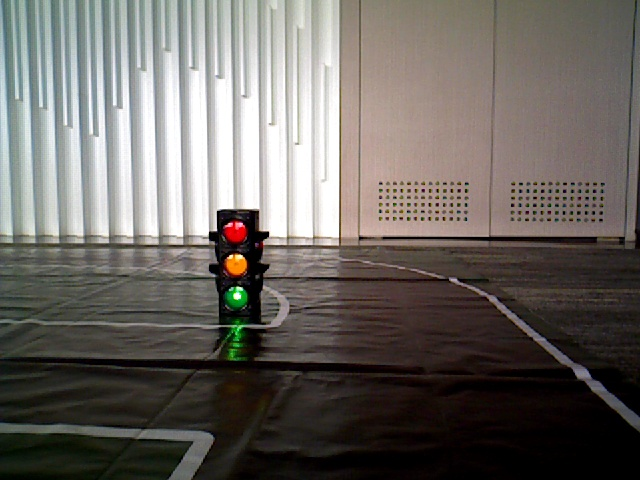green: (219, 215, 255, 315)
